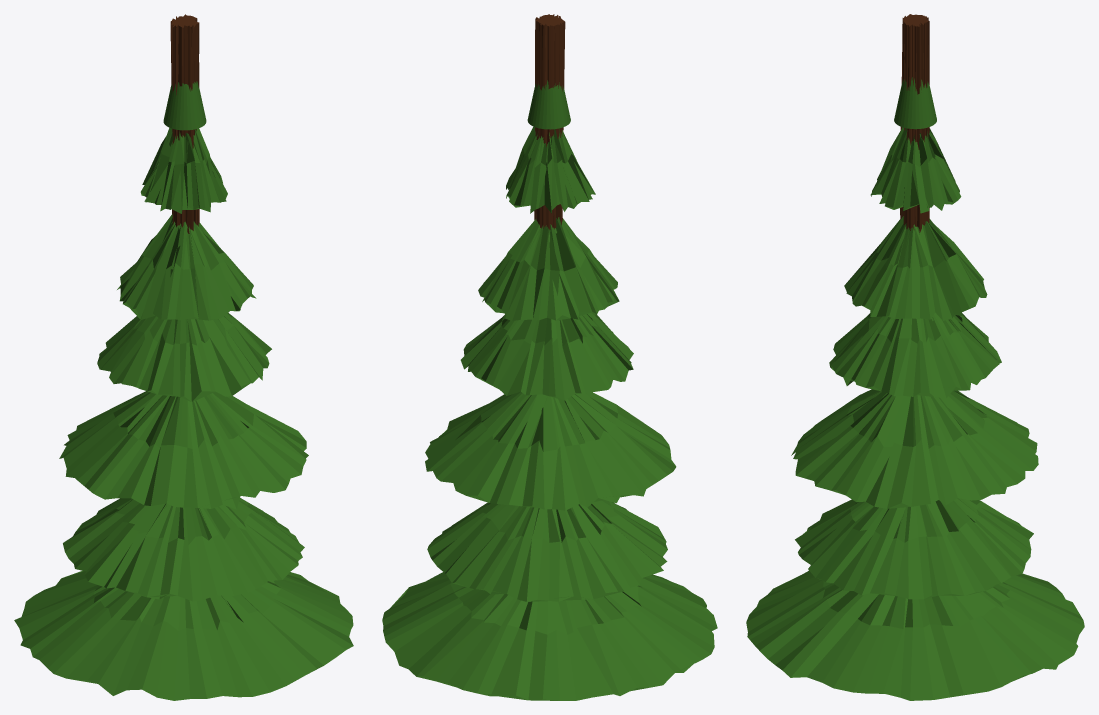
File: pine_natural.glb
The picture shows the model from 3 angles, left to right: view 1: azimuth 30°, elevation 25°; view 2: azimuth 150°, elevation 25°; view 3: azimuth 270°, elevation 25°; orthographic projection.
Visible parts, largest first — view 1: ColoredPine_Natural; view 2: ColoredPine_Natural; view 3: ColoredPine_Natural.
Part boxes in pixels (x1,y1,x2,y2): ColoredPine_Natural: [14, 14, 353, 700]; ColoredPine_Natural: [382, 14, 717, 700]; ColoredPine_Natural: [746, 14, 1084, 700].
Size of the model in its own units: 8.95 by 19.14 by 8.95.
